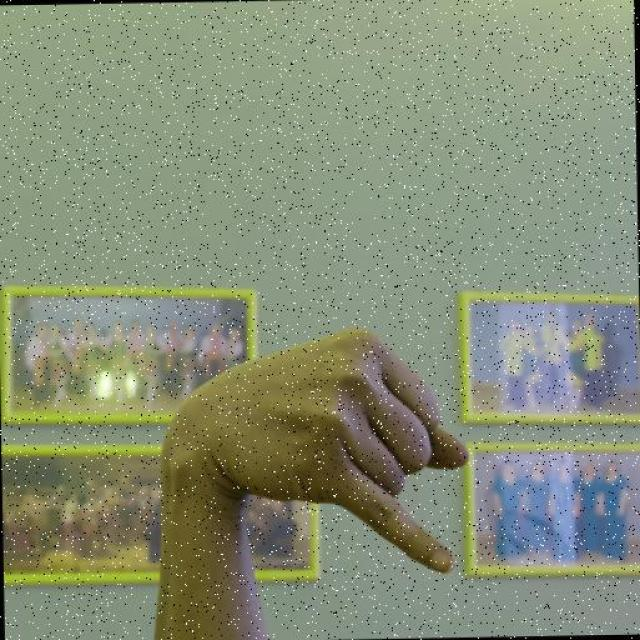J: (153, 322, 478, 583)
